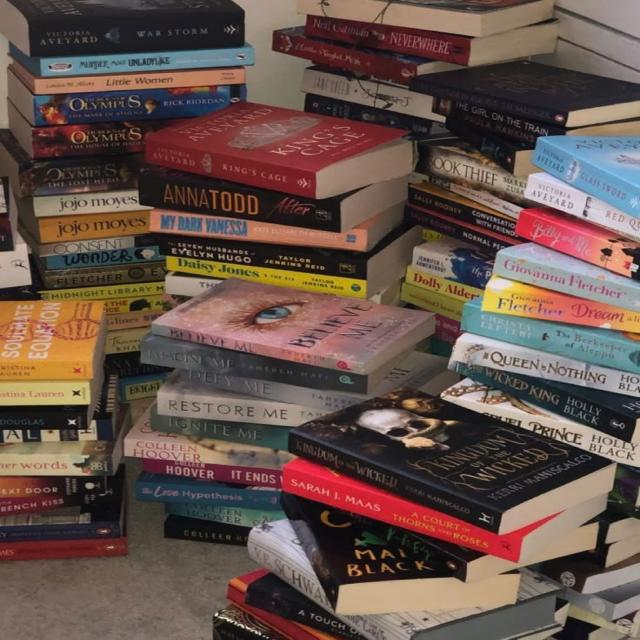book: (288, 391, 607, 532), (149, 278, 435, 378), (148, 100, 412, 196), (411, 59, 635, 140), (530, 134, 640, 227), (308, 0, 552, 34), (35, 26, 242, 50)
